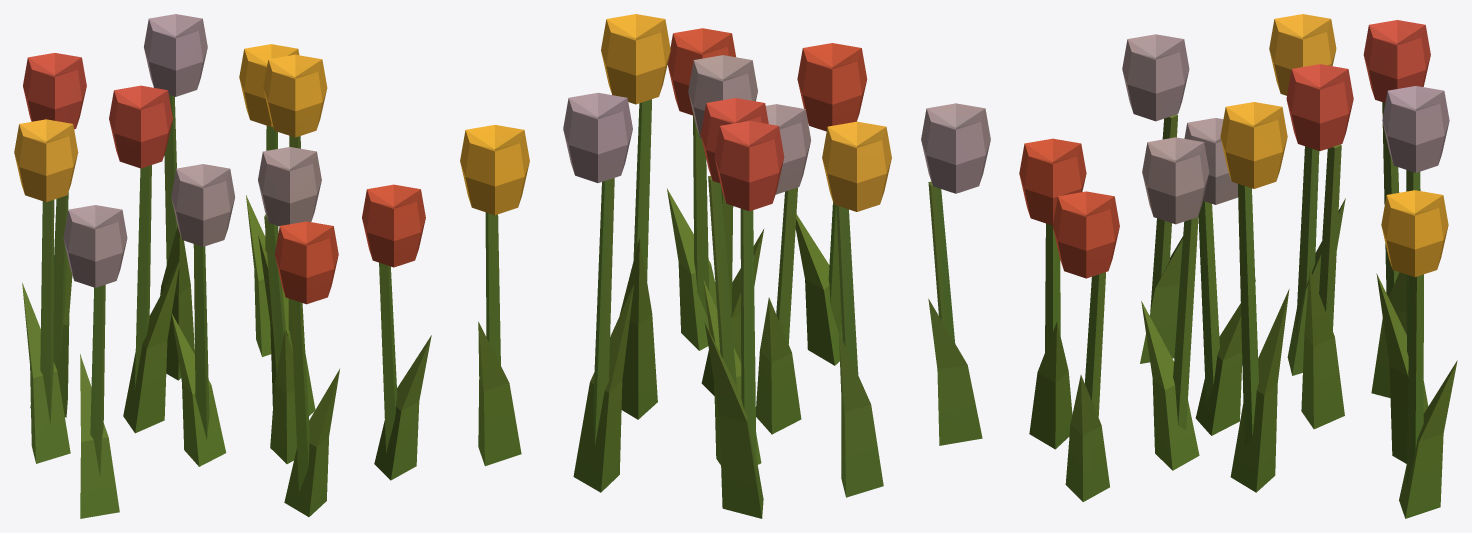
File: Flower_Tulips_01.glb
3 views of the same model, side by side, from view 1: azimuth 30°, elevation 25°; view 2: azimuth 150°, elevation 25°; view 3: azimuth 270°, elevation 25° (orthographic). The views are drawn at different scales.
Parts seen in each view (by area): view 1: Flower_Tulips_01; view 2: Flower_Tulips_01; view 3: Flower_Tulips_01.
Boxes of the visible parts, x1,y1,x2,y2 form: Flower_Tulips_01: (14,14,431,518); Flower_Tulips_01: (460,14,990,518); Flower_Tulips_01: (1019,14,1457,518).
Size of the model in its own units: 0.5035 by 0.4715 by 0.5078.
